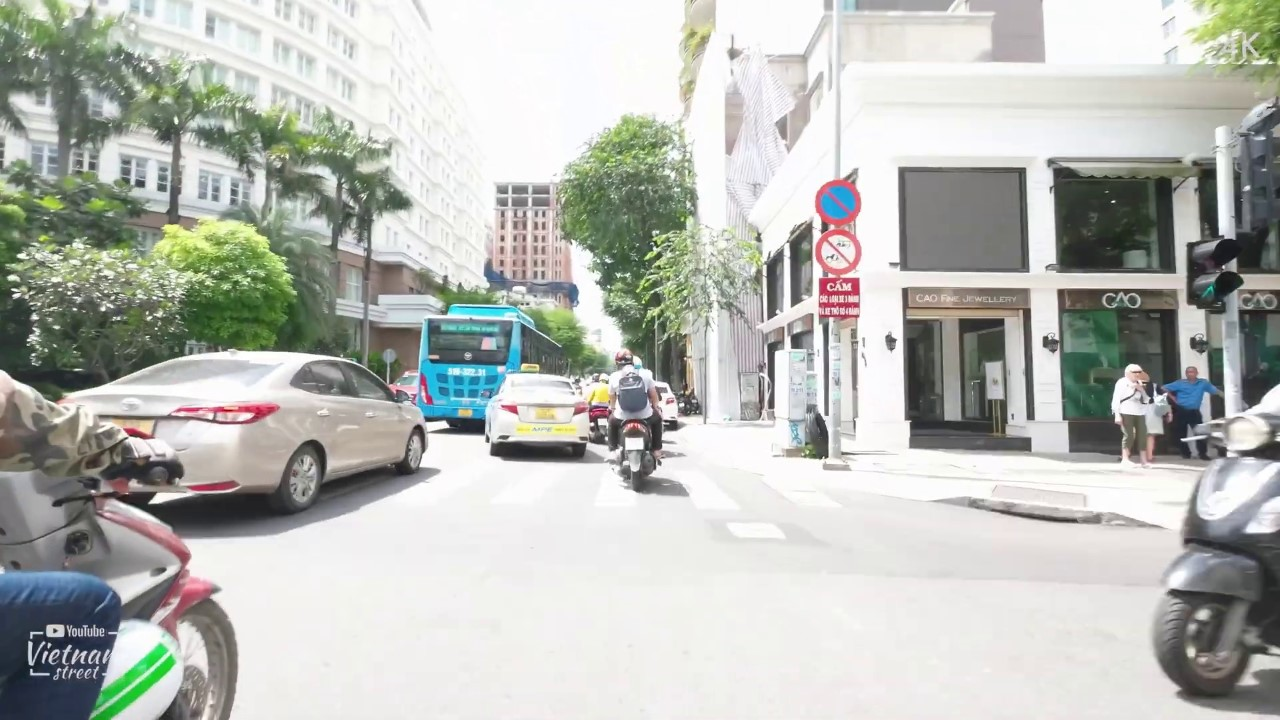cam_do_xe: (814, 178, 861, 226)
